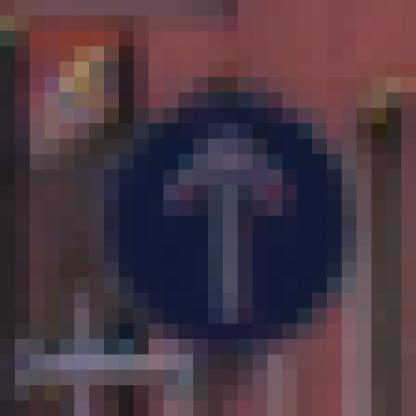AheadOnly: (90, 78, 343, 340)
